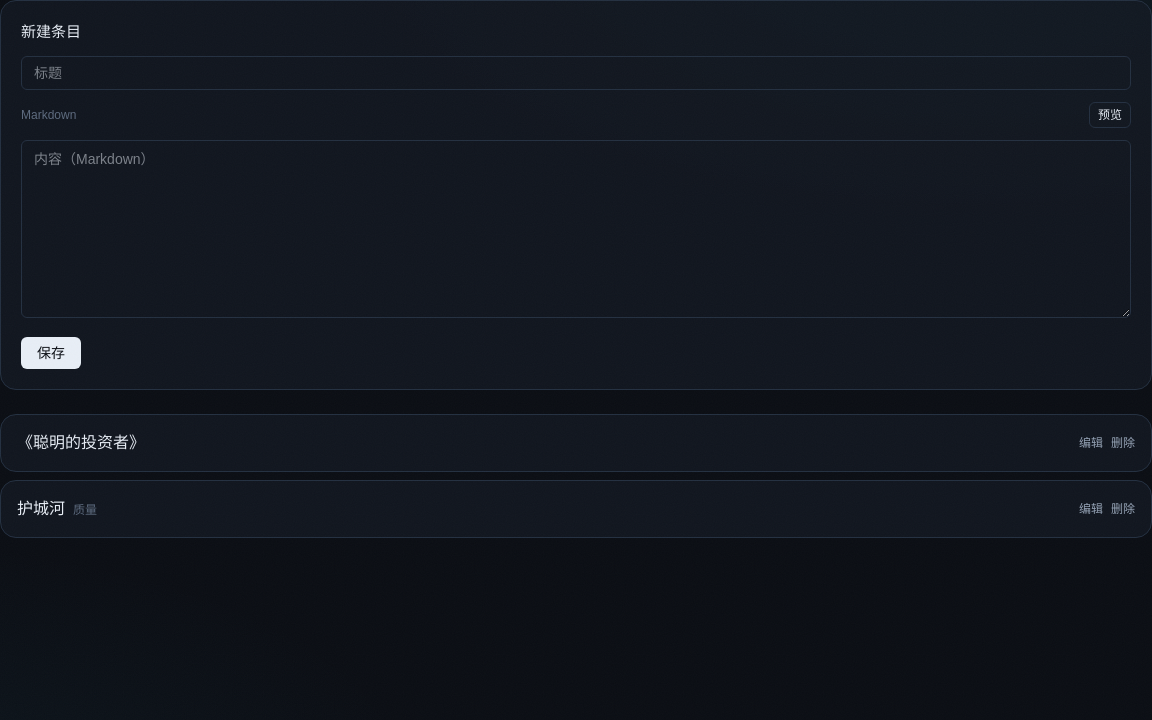
Scenario: NotePanel › 点标题展开 Markdown 渲染详情（h2）
This screenshot has width=1152, height=720.
Step 1. Click the button with test id "wiki-note-5" → (81,442), box [17, 430, 145, 454]
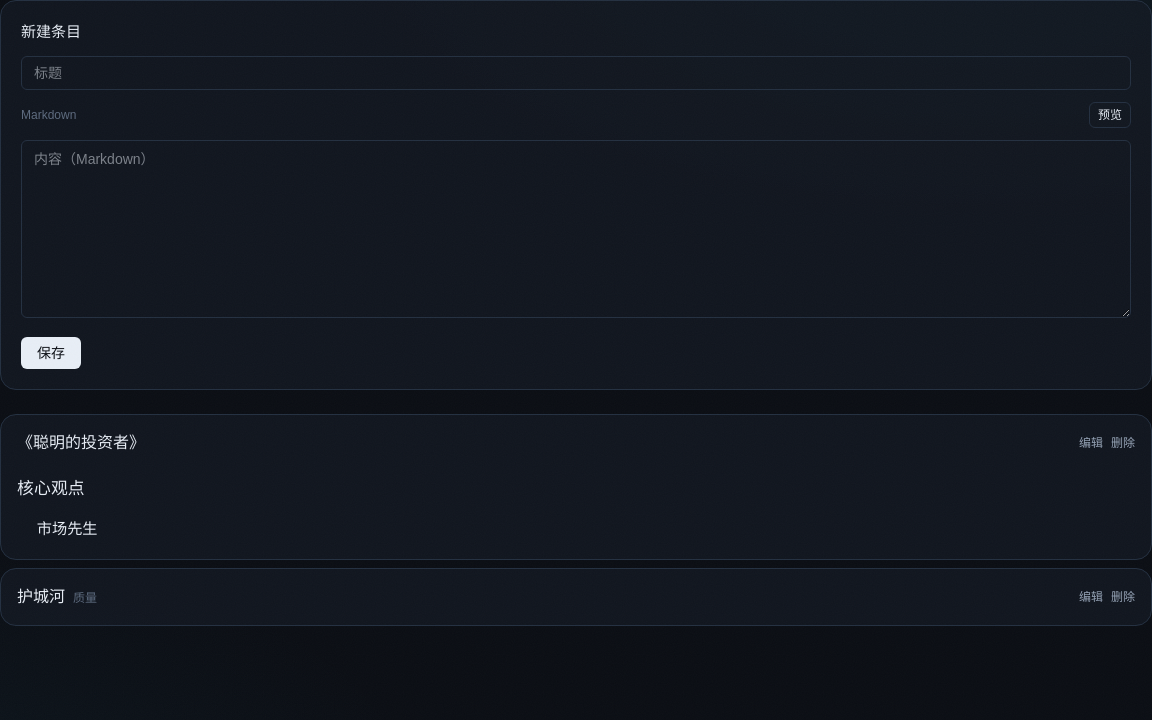
Expected: the heading "核心观点" is shown, [17, 479, 85, 498]
Step 2. Click the button with test id "wiki-note-5" → (81,442), box [17, 430, 145, 454]
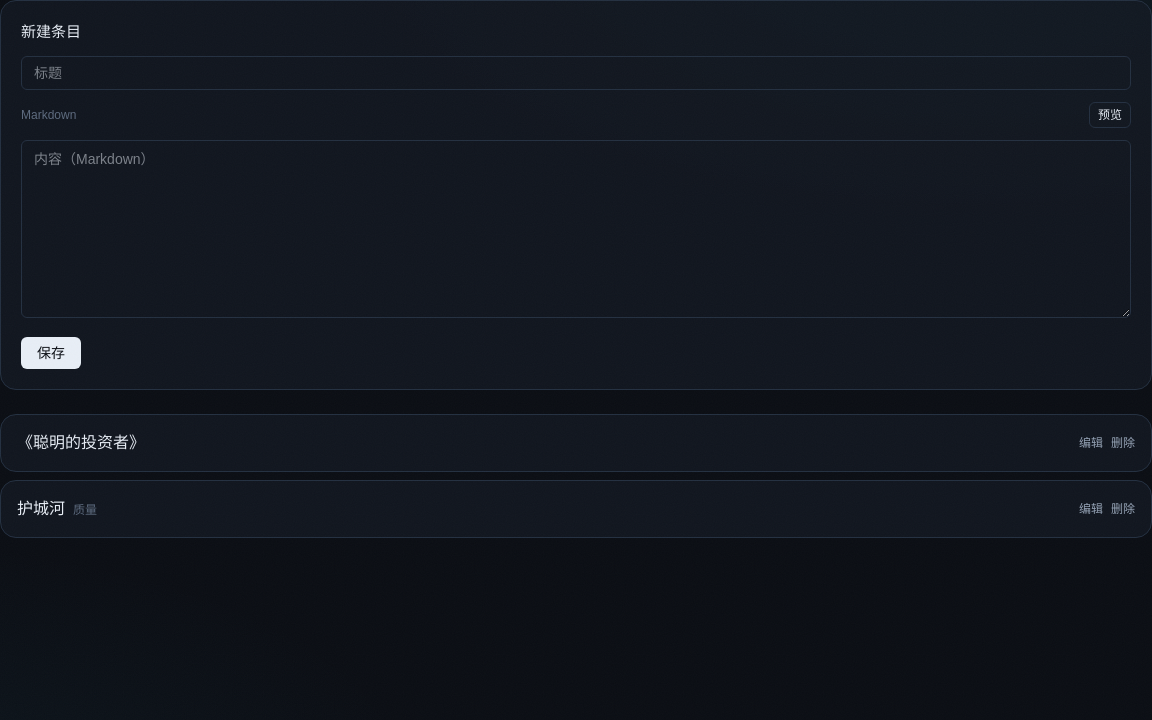
Expected: the heading "核心观点" is gone
